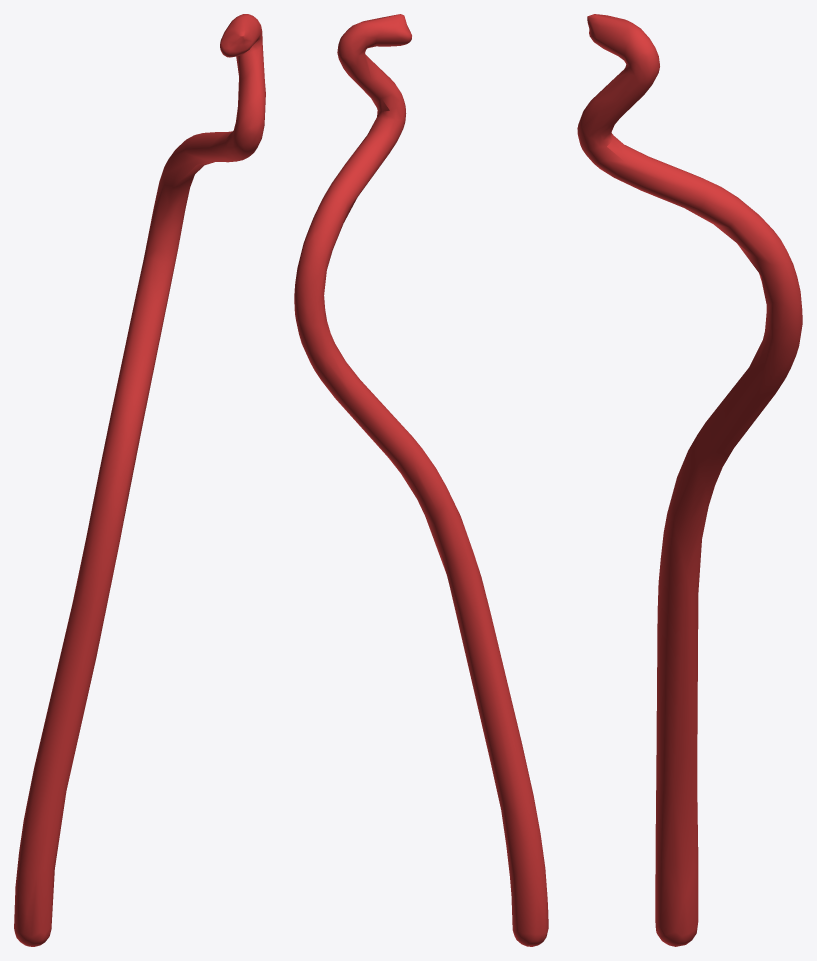
The model's file is internal-carotid.glb.
The picture shows the model from 3 angles, left to right: view 1: azimuth 30°, elevation 25°; view 2: azimuth 150°, elevation 25°; view 3: azimuth 270°, elevation 25°; orthographic projection. The views are drawn at different scales.
Visible parts, largest first — view 1: right_internal_carotid_artery; view 2: right_internal_carotid_artery; view 3: right_internal_carotid_artery.
Part boxes in pixels (box(x1,y1,x2,y2)): right_internal_carotid_artery: box(14, 14, 265, 946); right_internal_carotid_artery: box(294, 14, 548, 946); right_internal_carotid_artery: box(577, 14, 802, 946).
Bounding box in the file's own units: 0.0276 × 0.1032 × 0.0205.
